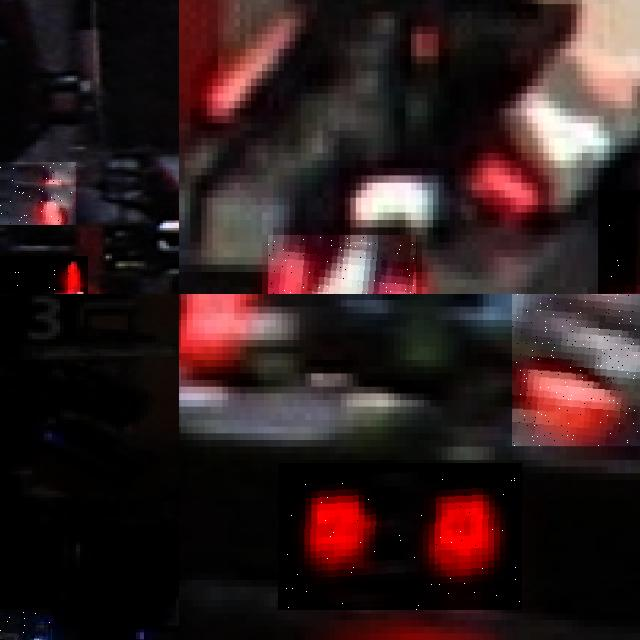R1: (0, 161, 75, 225)
R3: (278, 463, 522, 610), (512, 294, 640, 446)
R4: (267, 234, 416, 294), (598, 190, 640, 294)
